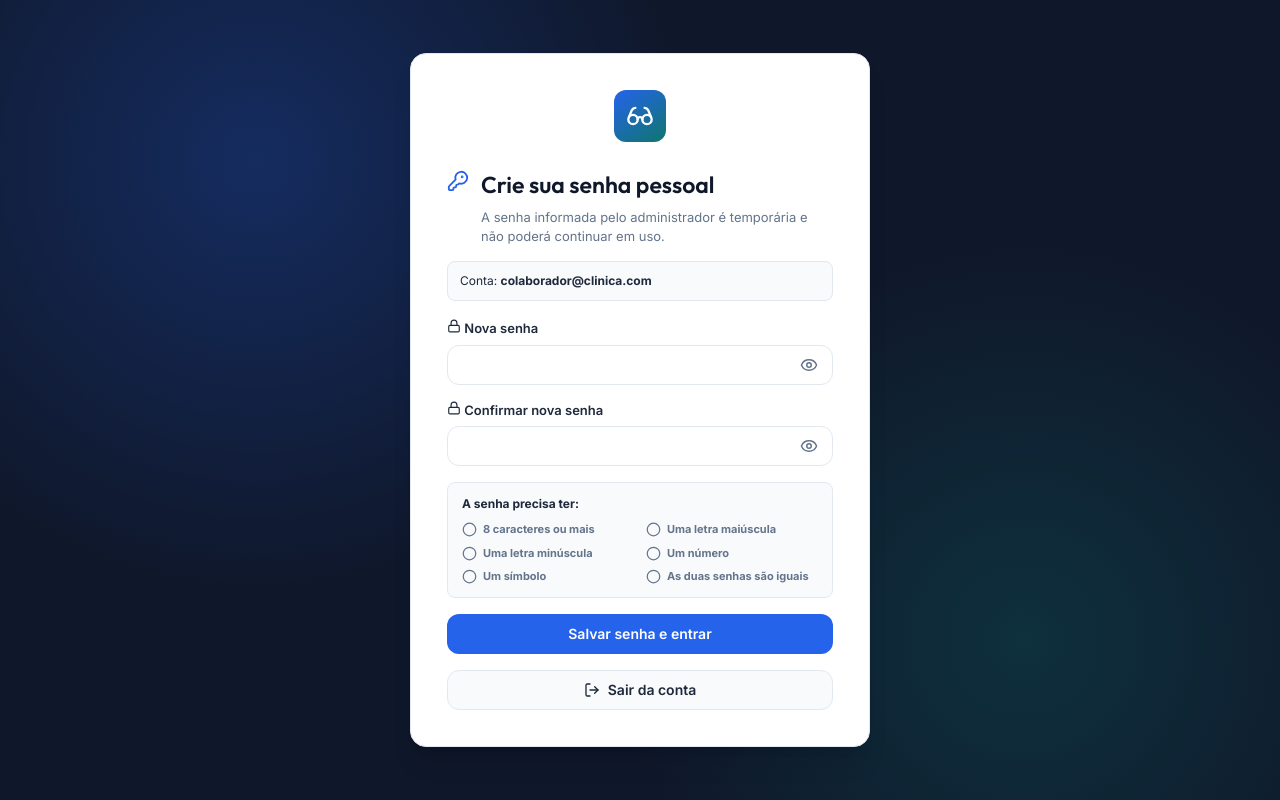
Test: ForcedPasswordChange › permite revelar os dois campos sem remover a proteção inicial
The image size is (1280, 800).
Click the button named "Mostrar nova senha" at (809, 365), box [792,348,826,382]
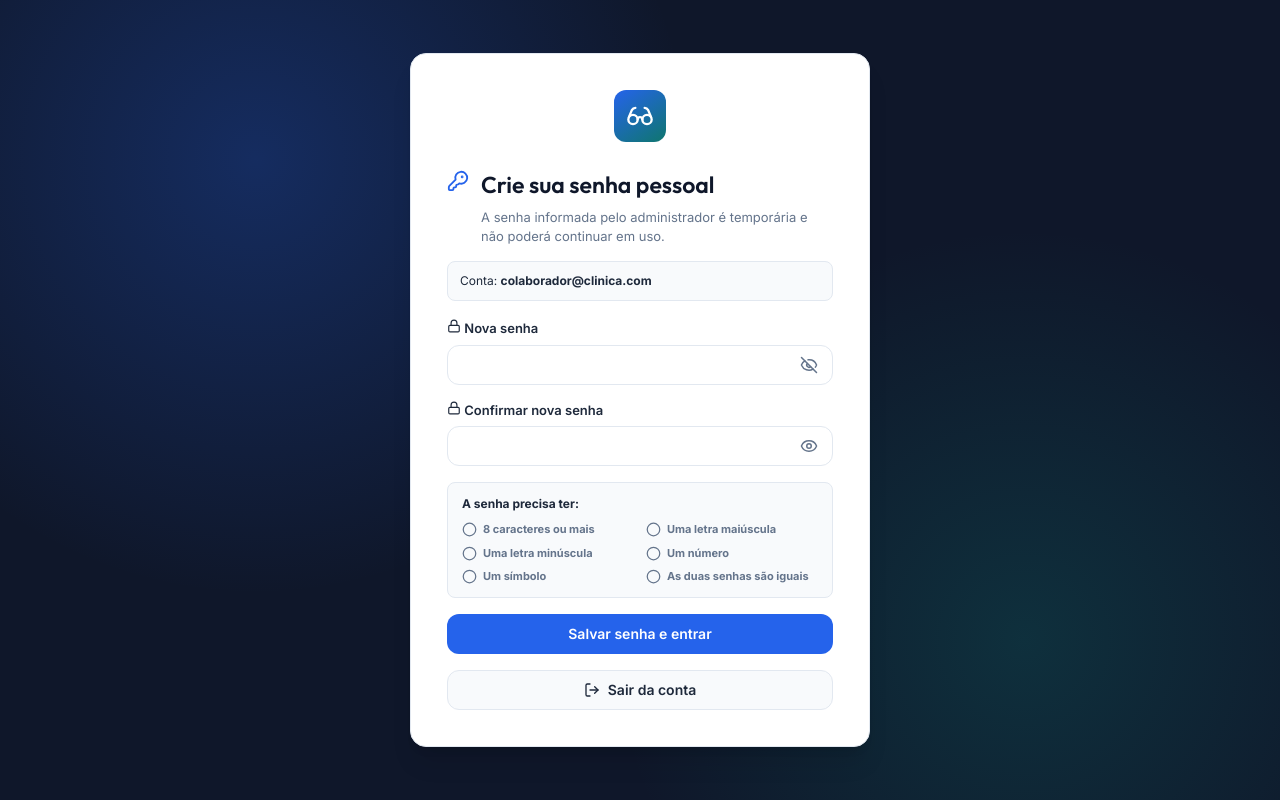
Click the button named "Mostrar confirmação de senha" at (809, 446), box [792,429,826,463]
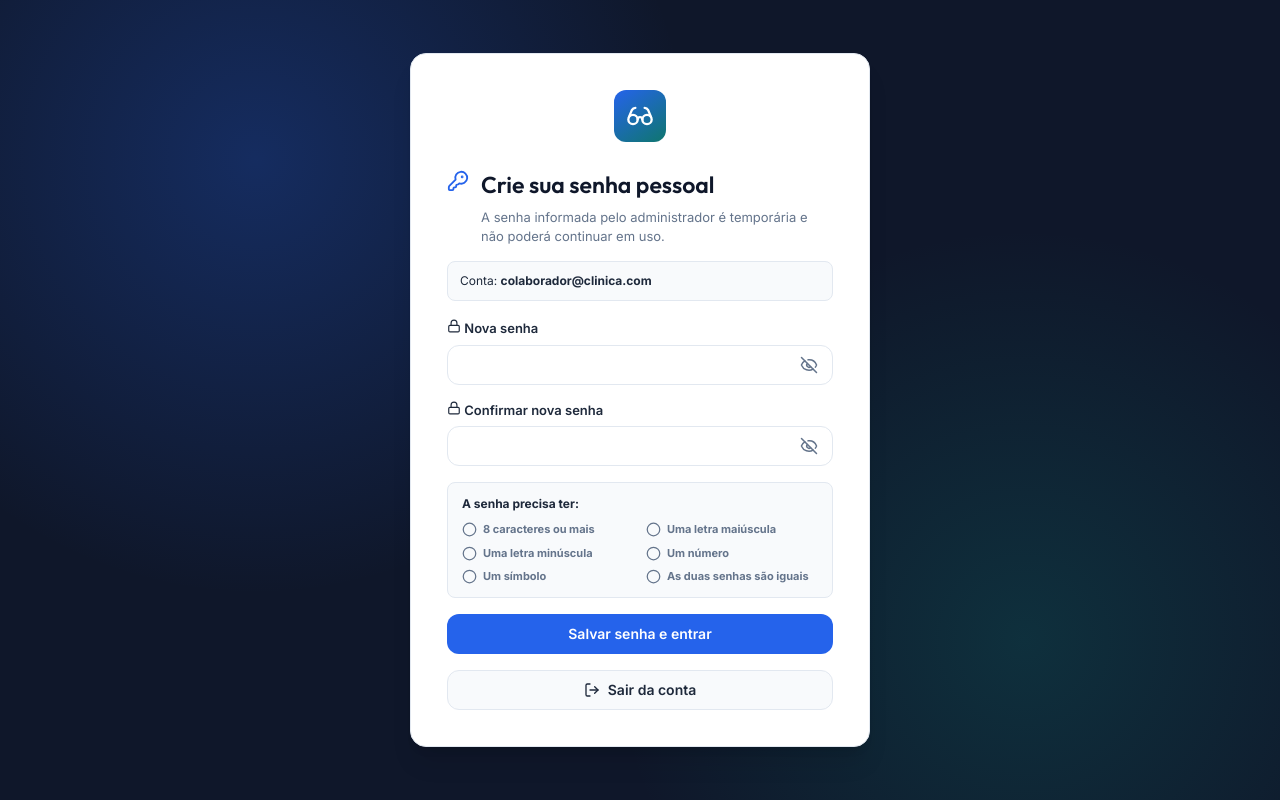
expect the button named "Ocultar nova senha" is shown: met, box [792,348,826,382]
expect the button named "Ocultar confirmação de senha" is shown: met, box [792,429,826,463]
